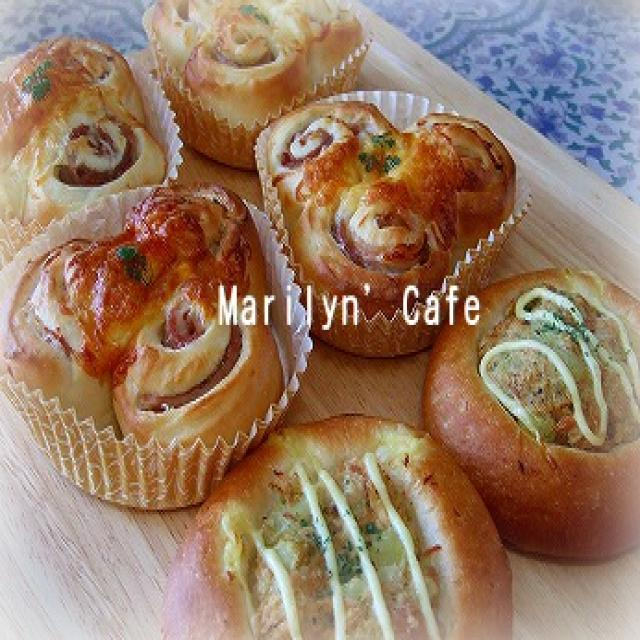三明治: (242, 495, 640, 640)
